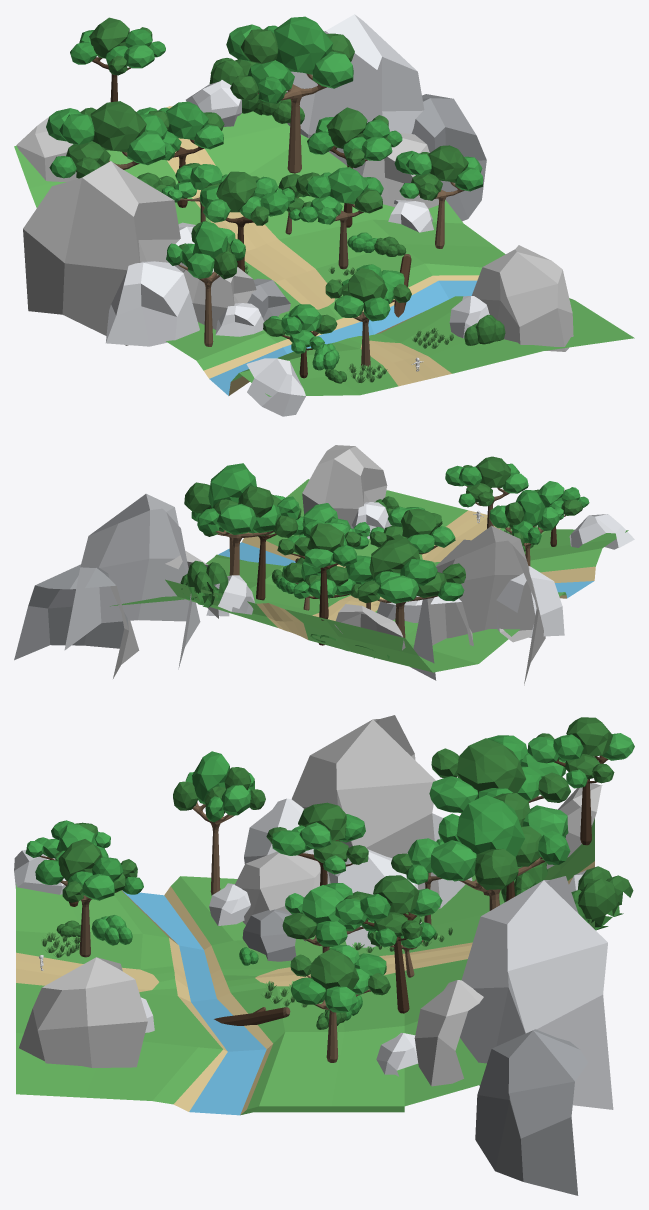
The model's file is BLOCKINGzoneHerbe.fbx.
3 views of the same model, one above another, from view 1: azimuth 30°, elevation 25°; view 2: azimuth 150°, elevation 25°; view 3: azimuth 270°, elevation 25° (orthographic). The views are drawn at different scales.
Visible parts, largest first — view 1: Cube.001, Cube.004, Cube.005, Arbre.017, Cube.002, Arbre.021, Cube.014, Arbre.016, Arbre.014, Arbre.009, Arbre.023, Arbre.020 (+15 smaller); view 2: Cube.001, Cube.005, Cube.004, Arbre.017, Arbre.021, Cube.014, Cube.002, Arbre.001, Arbre.023, Arbre.020, Arbre.022, Arbre.018 (+8 smaller); view 3: Cube.001, Cube.005, Cube.004, Cube.014, Cube.002, Arbre.017, Arbre.021, Arbre.014, Arbre.009, Arbre.001, Arbre.023, Arbre.022 (+12 smaller).
Boxes of the visible parts, x1,y1,x2,y2 form: Cube.001: (14, 106, 634, 396); Cube.004: (23, 133, 438, 345); Cube.005: (106, 14, 424, 346); Arbre.017: (226, 16, 354, 173); Cube.002: (471, 245, 573, 351); Arbre.021: (46, 101, 167, 178); Cube.014: (247, 94, 486, 321); Arbre.016: (295, 167, 383, 269); Arbre.014: (394, 145, 483, 248); Arbre.009: (307, 107, 402, 227); Arbre.023: (325, 264, 411, 367); Arbre.020: (200, 171, 290, 271); Cube.001: (110, 479, 628, 672); Cube.005: (64, 493, 564, 680); Cube.004: (110, 525, 545, 685); Arbre.017: (184, 463, 299, 575); Arbre.021: (345, 537, 465, 637); Cube.014: (14, 564, 128, 660); Cube.002: (302, 445, 387, 527); Arbre.001: (277, 519, 360, 620); Arbre.023: (445, 456, 528, 528); Arbre.020: (369, 507, 455, 554); Arbre.022: (489, 490, 559, 566); Arbre.018: (283, 559, 364, 645); Cube.001: (16, 818, 594, 1115); Cube.005: (209, 798, 613, 1109); Cube.004: (235, 715, 483, 1086); Cube.014: (242, 909, 587, 1195); Cube.002: (19, 957, 147, 1067); Arbre.017: (430, 793, 570, 910); Arbre.021: (429, 735, 570, 895); Arbre.014: (290, 945, 390, 1062); Arbre.009: (335, 875, 442, 1013); Arbre.001: (527, 717, 634, 845); Arbre.023: (35, 839, 143, 957); Arbre.022: (173, 751, 265, 895).
Size of the model in its own units: 9446 by 4216 by 8542.
